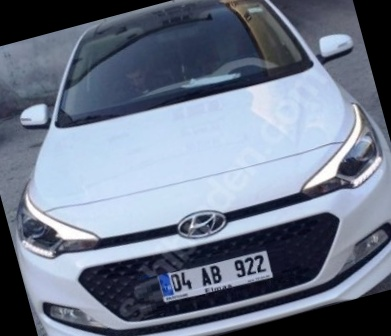plaka: (166, 254, 277, 295)
